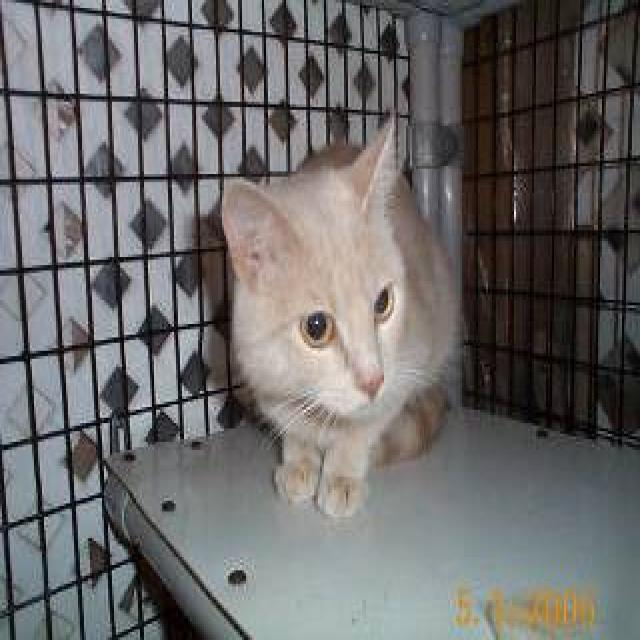cat: (218, 110, 468, 517)
